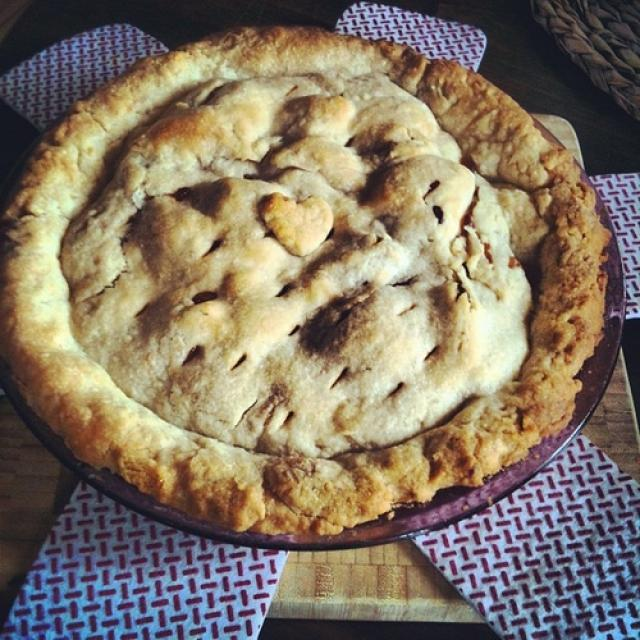Apple: (17, 32, 620, 504)
